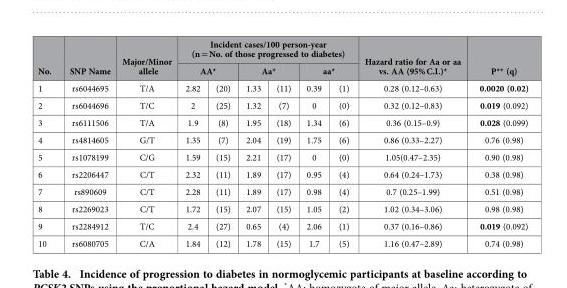table: (37, 37, 527, 249)
table column: (356, 37, 469, 249), (115, 37, 177, 249), (469, 37, 527, 249), (59, 37, 115, 249), (267, 37, 298, 249), (298, 37, 329, 249), (177, 37, 207, 249), (207, 37, 237, 249), (237, 37, 267, 249), (329, 37, 356, 249), (37, 37, 59, 249)
table column header: (37, 37, 527, 96)
table row: (37, 37, 527, 61), (37, 78, 527, 96), (37, 130, 527, 148), (37, 216, 527, 234), (37, 61, 527, 78), (37, 96, 527, 113), (37, 113, 527, 130), (37, 148, 527, 165), (37, 165, 527, 182), (37, 182, 527, 199), (37, 199, 527, 216), (37, 234, 527, 249)
table spanning cell: (356, 37, 469, 96), (177, 37, 356, 61), (115, 37, 177, 96), (469, 37, 527, 96), (59, 37, 115, 96), (37, 37, 59, 96), (237, 61, 298, 78), (177, 61, 237, 78), (298, 61, 356, 78)
